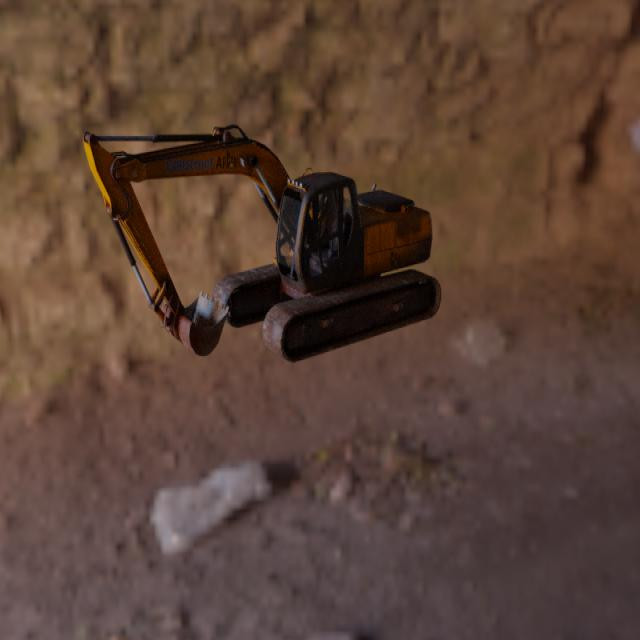excavator: (82, 122, 441, 362)
